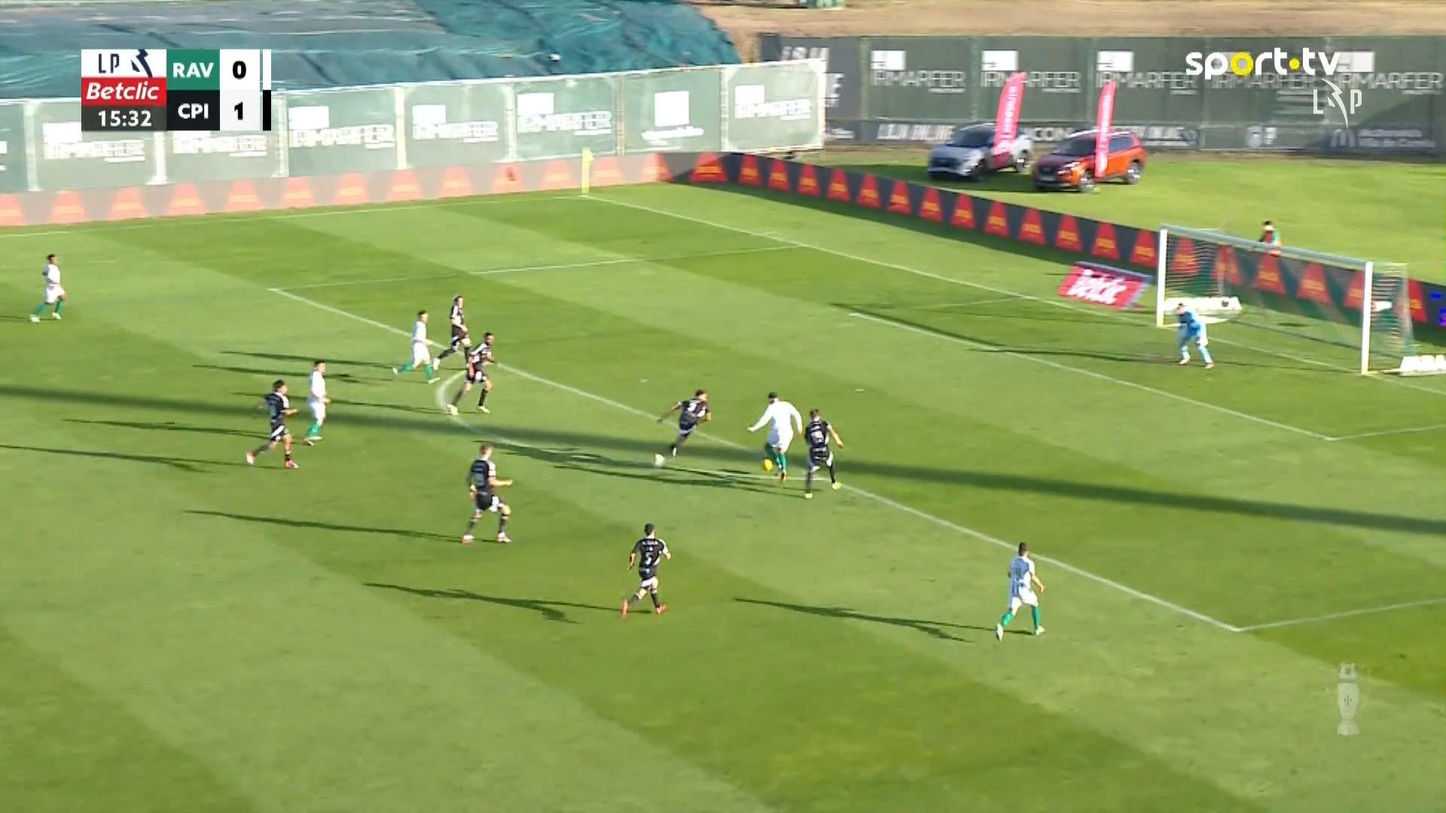ball: (762, 458, 774, 470)
goalkeeper: (1171, 301, 1214, 368)
player: (461, 443, 514, 544), (994, 540, 1046, 641), (746, 391, 803, 483), (619, 522, 671, 619), (244, 378, 300, 468), (445, 331, 497, 416), (655, 388, 711, 459), (390, 309, 441, 384), (801, 407, 843, 498), (432, 294, 473, 370), (301, 358, 331, 446), (28, 253, 66, 322)
